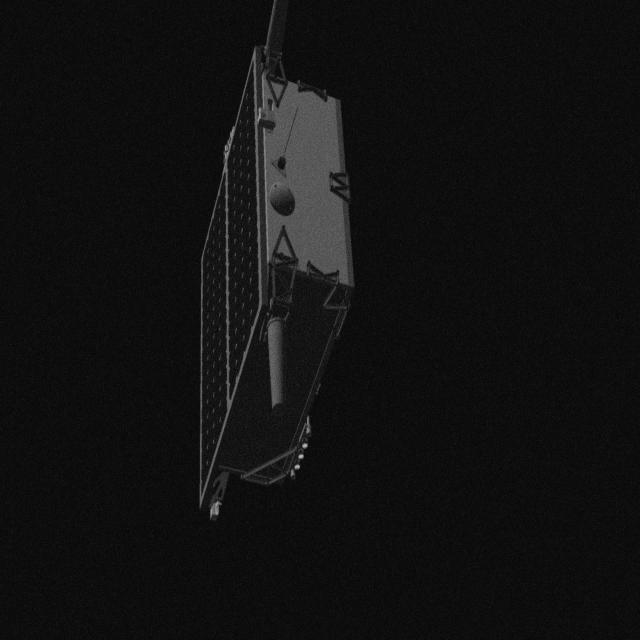medium_debris: (178, 2, 364, 528)
